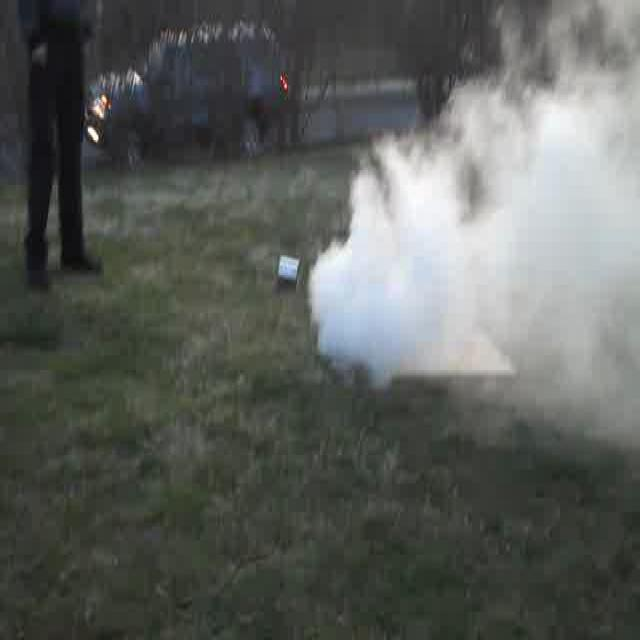Smoke: (323, 122, 628, 376)
